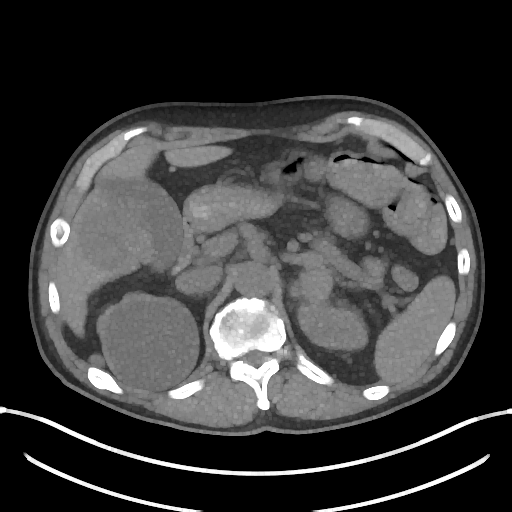Lesion: (100, 296, 200, 394)
